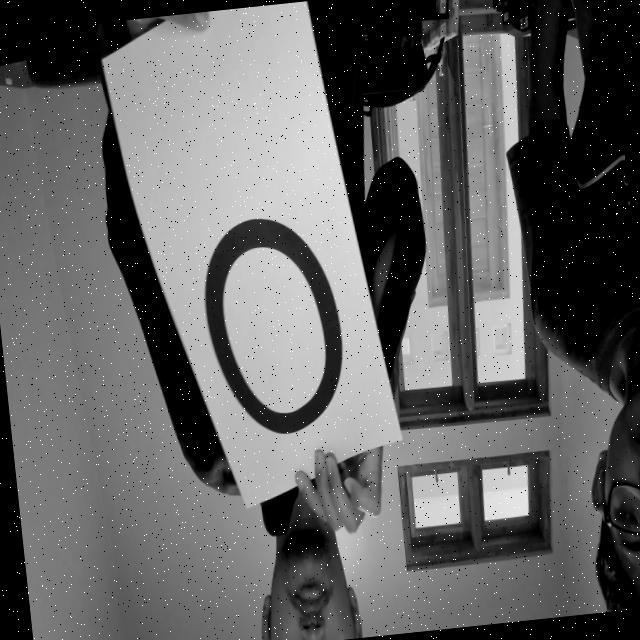o: (183, 199, 360, 455)
